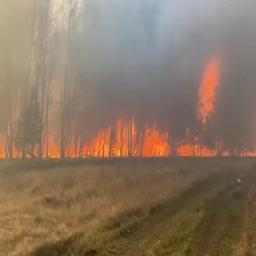Heavy smoke: (0, 0, 255, 168)
Large fire: (4, 41, 255, 161)
